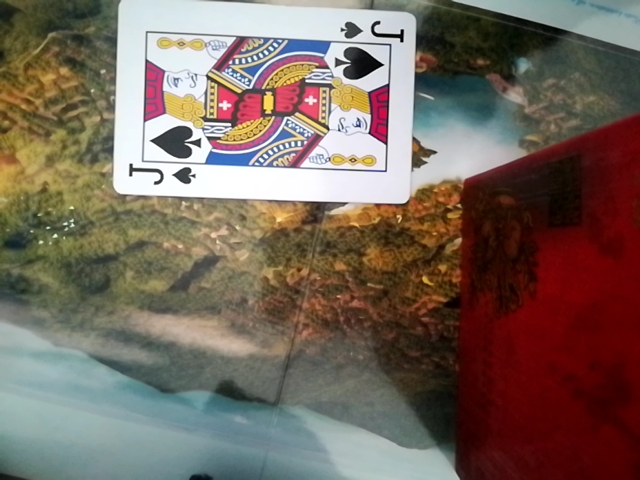ht j: (110, 0, 413, 201)
